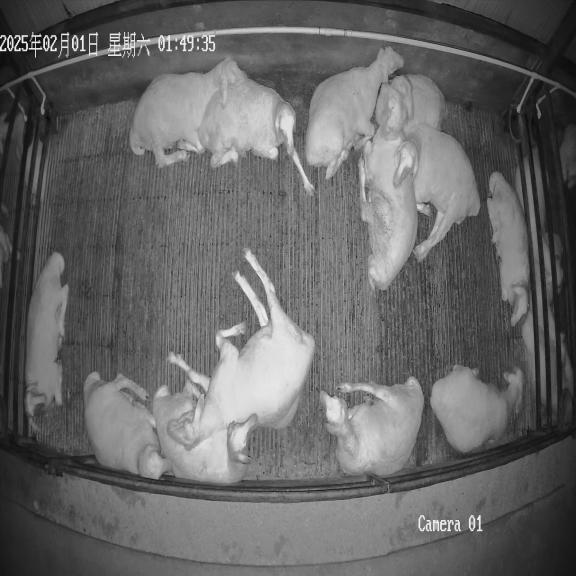lying: (167, 249, 315, 449), (198, 62, 314, 194), (305, 46, 404, 179), (129, 58, 246, 168), (358, 83, 417, 290), (394, 124, 480, 261), (152, 380, 256, 484), (320, 378, 424, 477), (84, 372, 170, 479), (430, 365, 523, 453), (25, 252, 69, 418), (487, 172, 530, 326), (391, 74, 446, 129)
